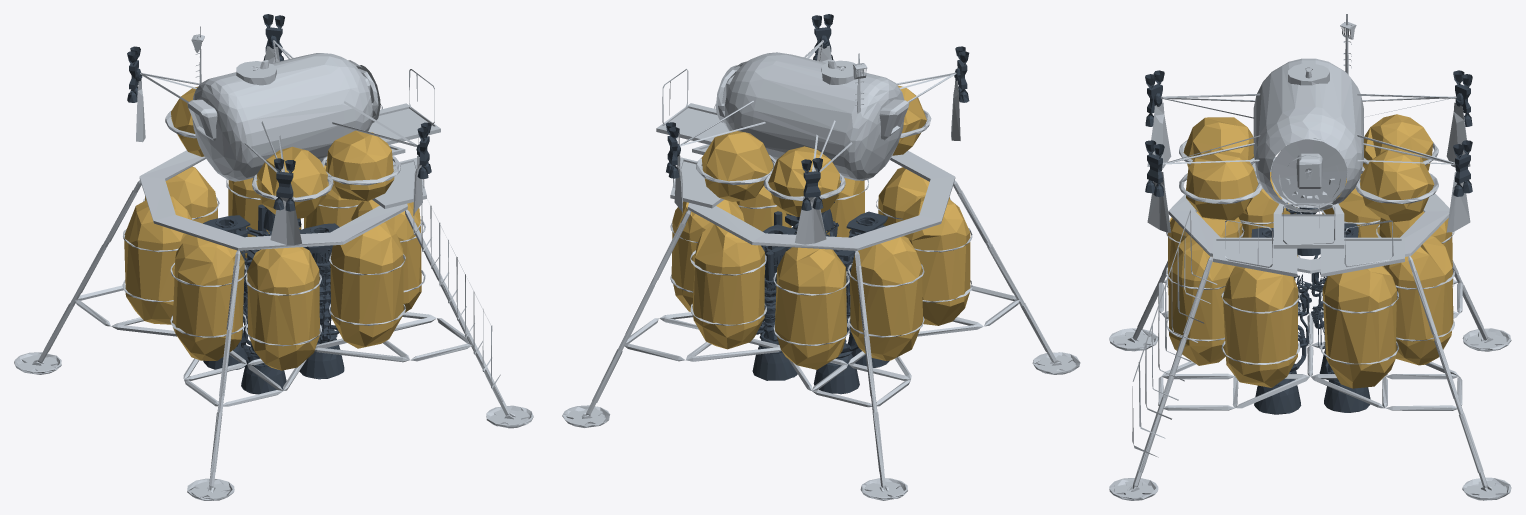
The model's file is artemis-lite.glb.
3 views of the same model, side by side, from view 1: azimuth 30°, elevation 25°; view 2: azimuth 150°, elevation 25°; view 3: azimuth 270°, elevation 25° (orthographic). The views are drawn at different scales.
Visible parts, largest first — view 1: artemis; view 2: artemis; view 3: artemis.
Part boxes in pixels (left/top/right/bottom): artemis: left=14, top=14, right=533, bottom=500; artemis: left=562, top=14, right=1080, bottom=500; artemis: left=1109, top=14, right=1511, bottom=500.
Size of the model in its own units: 540 by 560 by 540.
